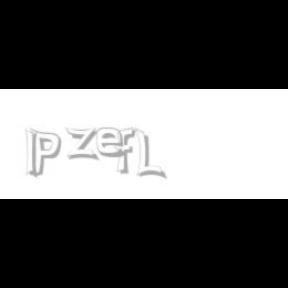L: (136, 128, 164, 180)
P: (29, 128, 61, 178)
e: (96, 128, 130, 158)
f: (115, 128, 139, 174)
l: (25, 128, 41, 180)
z: (65, 128, 101, 160)
